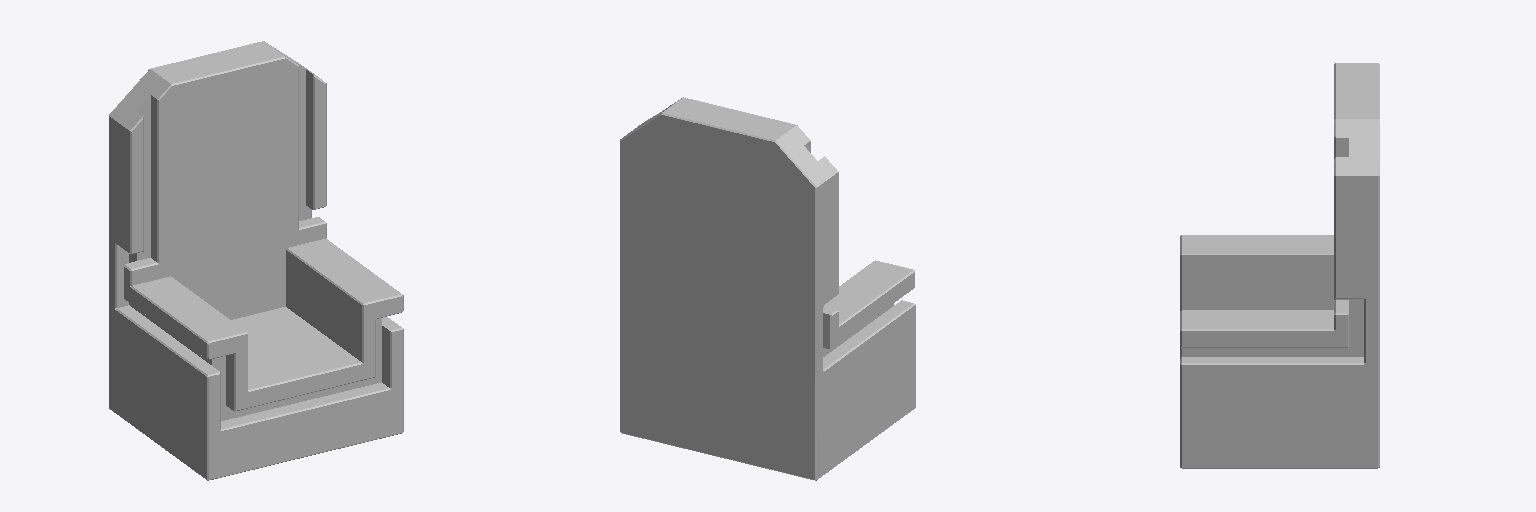
Rendered from JC_Throne.obj.
3 renders of one model, left to right at view 1: azimuth 30°, elevation 25°; view 2: azimuth 150°, elevation 25°; view 3: azimuth 270°, elevation 25°, orthographic.
Parts seen in each view (by area): view 1: jc_throne1; view 2: jc_throne1; view 3: jc_throne1.
Part boxes in pixels (bbox=[...]): jc_throne1: bbox=[109, 41, 403, 480]; jc_throne1: bbox=[620, 97, 915, 480]; jc_throne1: bbox=[1180, 63, 1379, 468].
Size of the model in its own units: 1.68 by 2.69 by 1.47.